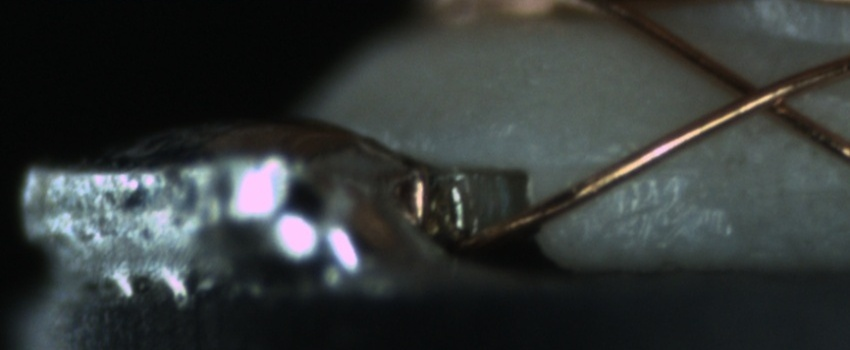CL: (711, 64, 812, 127)
DL: (533, 135, 701, 196)
TE: (402, 168, 436, 225)
